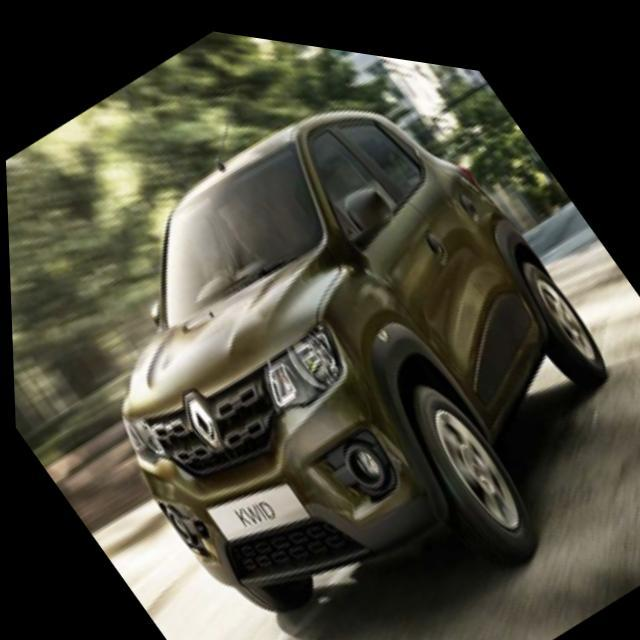license_plate: (196, 446, 294, 550)
